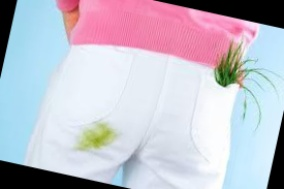earth: (77, 122, 117, 153)
